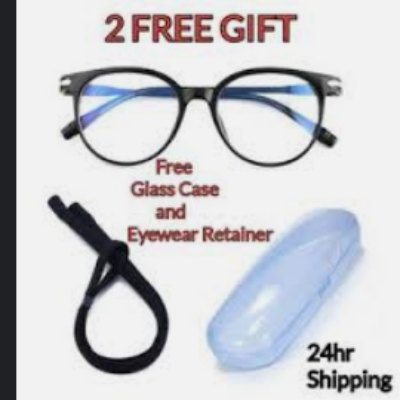glasses: (55, 59, 346, 174)
